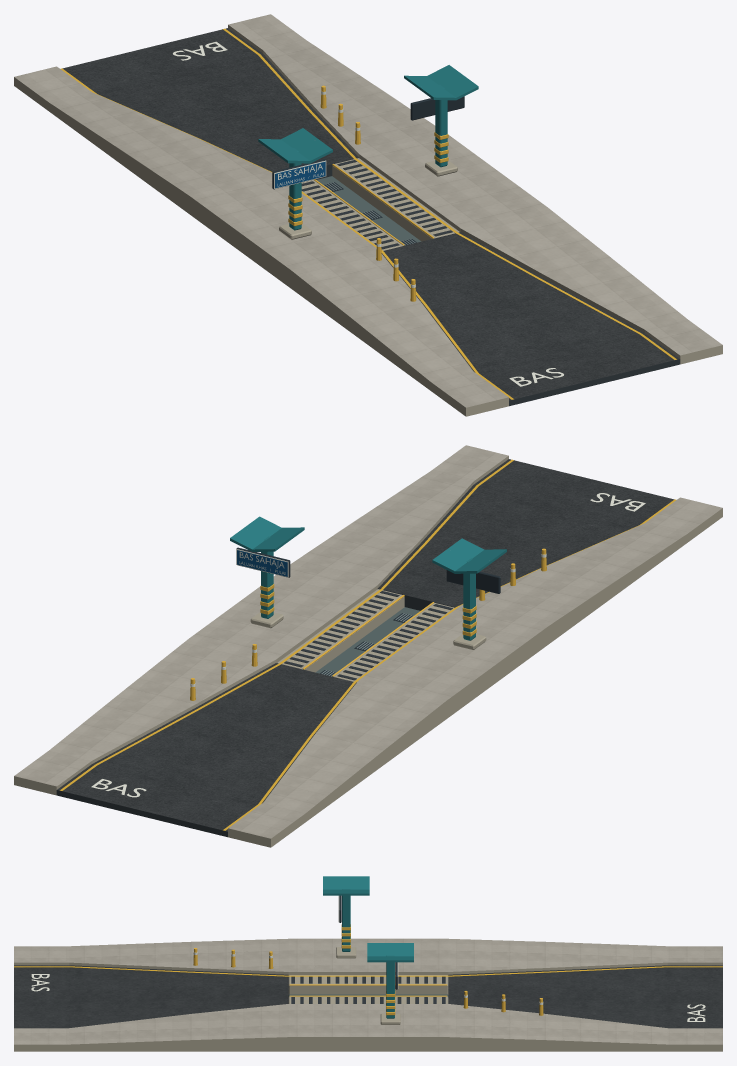
3 renders of one model, top to bottom at view 1: azimuth 30°, elevation 25°; view 2: azimuth 150°, elevation 25°; view 3: azimuth 270°, elevation 25°, orthographic. The views are drawn at different scales.
Parts seen in each view (by area): view 1: Flared waiting islands, Approach ramps, Precast wheel shelves, Folded rain hoods, Ramp fill, Approach edge paint, Friction tread inserts, Enamel nameplates, Catch pit invert, Gate columns, Flexible guide posts, Gate equipment plinths; view 2: Flared waiting islands, Approach ramps, Precast wheel shelves, Folded rain hoods, Ramp fill, Approach edge paint, Friction tread inserts, Enamel nameplates, Gate columns, Catch pit invert, Gate equipment plinths, Flexible guide posts; view 3: Flared waiting islands, Approach ramps, Precast wheel shelves, Ramp fill, Folded rain hoods, Approach edge paint, Friction tread inserts, Gate columns, Hazard nosing, Flexible guide posts, Gate equipment plinths, Approach legends (+2 smaller).
Boxes of the visible parts, bbox=[...] form: Flared waiting islands: bbox=[14, 14, 722, 416]; Approach ramps: bbox=[62, 28, 680, 406]; Precast wheel shelves: bbox=[301, 158, 459, 250]; Folded rain hoods: bbox=[258, 65, 478, 163]; Ramp fill: bbox=[53, 114, 428, 389]; Approach edge paint: bbox=[60, 28, 676, 399]; Friction tread inserts: bbox=[301, 160, 452, 249]; Enamel nameplates: bbox=[272, 96, 464, 189]; Catch pit invert: bbox=[317, 176, 421, 242]; Gate columns: bbox=[289, 85, 447, 230]; Flexible guide posts: bbox=[320, 85, 416, 301]; Gate equipment plinths: bbox=[279, 160, 457, 239]; Flared waiting islands: bbox=[14, 445, 722, 847]; Approach ramps: bbox=[56, 459, 674, 837]; Precast wheel shelves: bbox=[277, 589, 454, 682]; Folded rain hoods: bbox=[230, 516, 506, 573]; Ramp fill: bbox=[308, 545, 683, 820]; Approach edge paint: bbox=[60, 459, 676, 830]; Friction tread inserts: bbox=[284, 591, 452, 680]; Enamel nameplates: bbox=[236, 547, 500, 593]; Gate columns: bbox=[261, 536, 475, 640]; Catch pit invert: bbox=[315, 607, 419, 673]; Gate equipment plinths: bbox=[250, 612, 486, 649]; Flexible guide posts: bbox=[190, 548, 546, 700]; Flared waiting islands: bbox=[14, 938, 722, 1051]; Approach ramps: bbox=[14, 965, 722, 1028]; Precast wheel shelves: bbox=[288, 975, 448, 1003]; Ramp fill: bbox=[73, 1044, 663, 1051]; Folded rain hoods: bbox=[323, 876, 413, 962]; Approach edge paint: bbox=[14, 966, 722, 976]; Friction tread inserts: bbox=[291, 976, 445, 1003]; Gate columns: bbox=[342, 889, 394, 1018]; Hazard nosing: bbox=[289, 984, 447, 996]; Flexible guide posts: bbox=[193, 948, 543, 1015]; Gate equipment plinths: bbox=[336, 947, 400, 1024]; Approach legends: bbox=[31, 974, 705, 1021].
Bounding box in the file's own units: 10.5 × 4.19 × 32.
Materials: 13 (2 with a texture image).
